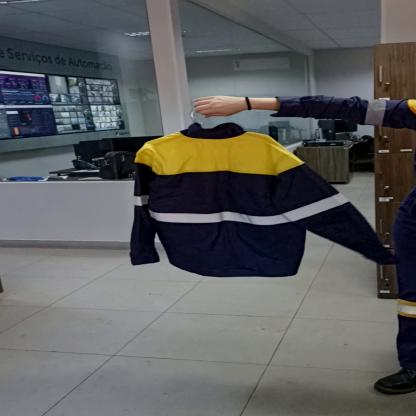C_eletrica: (122, 124, 397, 276)
